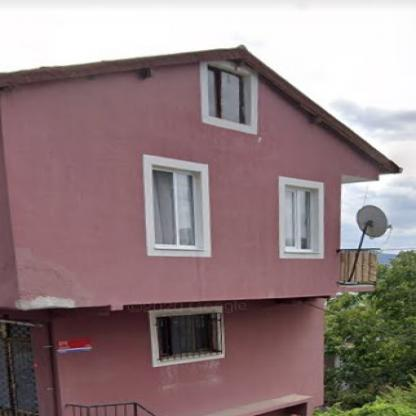window: (154, 170, 197, 245), (161, 315, 218, 356), (212, 67, 244, 122), (287, 189, 310, 249)
